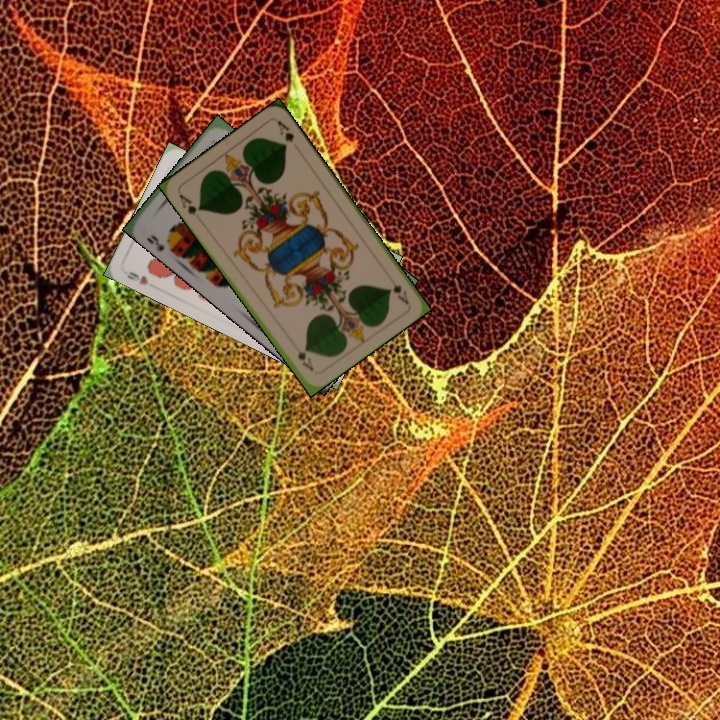GA: (383, 271, 411, 307), (174, 189, 204, 217)
H9: (123, 267, 151, 288)
S9: (143, 231, 178, 255)
